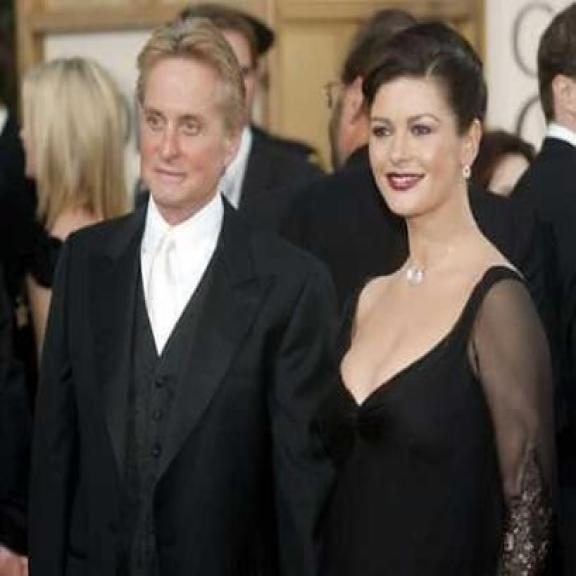face: (134, 55, 246, 215), (365, 74, 483, 223)
